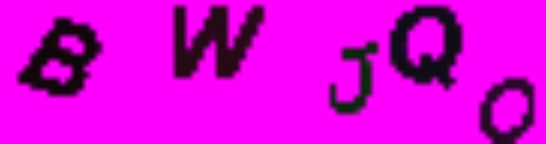B: (13, 14, 105, 101)
J: (327, 38, 381, 119)
O: (477, 76, 542, 144)
Q: (387, 1, 467, 95)
W: (168, 1, 273, 84)
